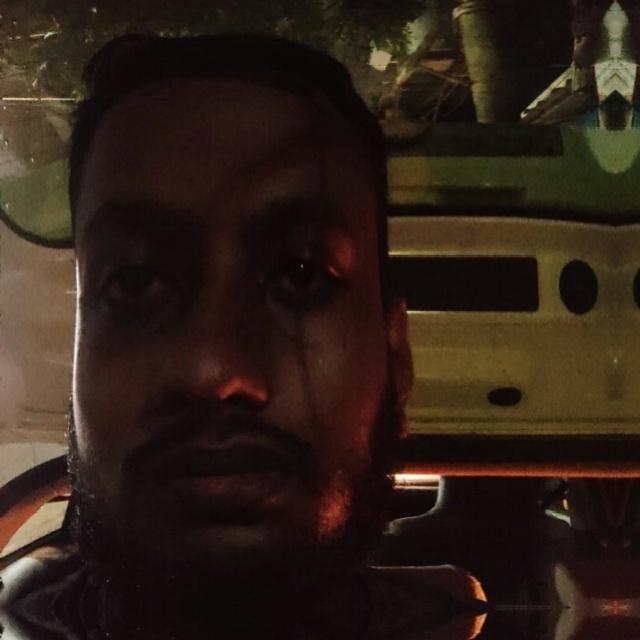Sad: (57, 57, 415, 587)
